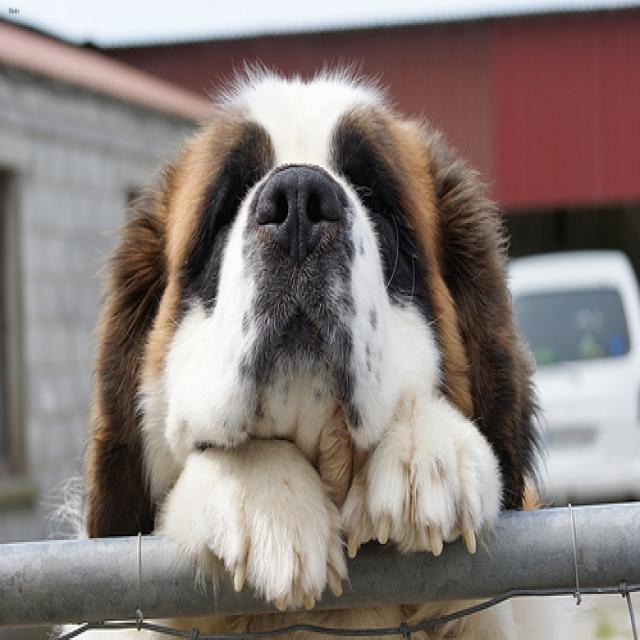dog-saint_bernard: (36, 58, 548, 625)
